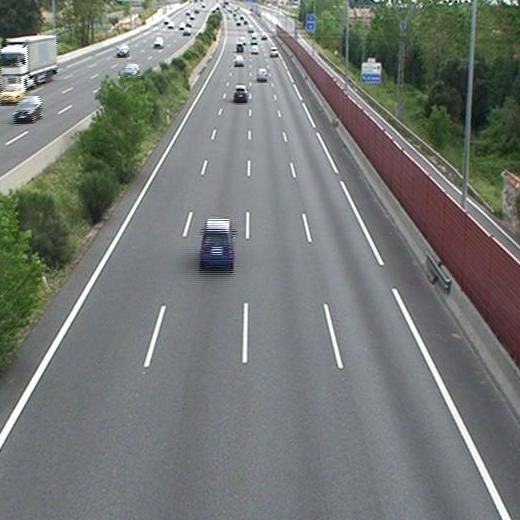car: (201, 219, 234, 265), (233, 85, 247, 100), (256, 69, 268, 80), (234, 56, 245, 66), (269, 46, 279, 56), (250, 45, 259, 54), (235, 43, 245, 51)
